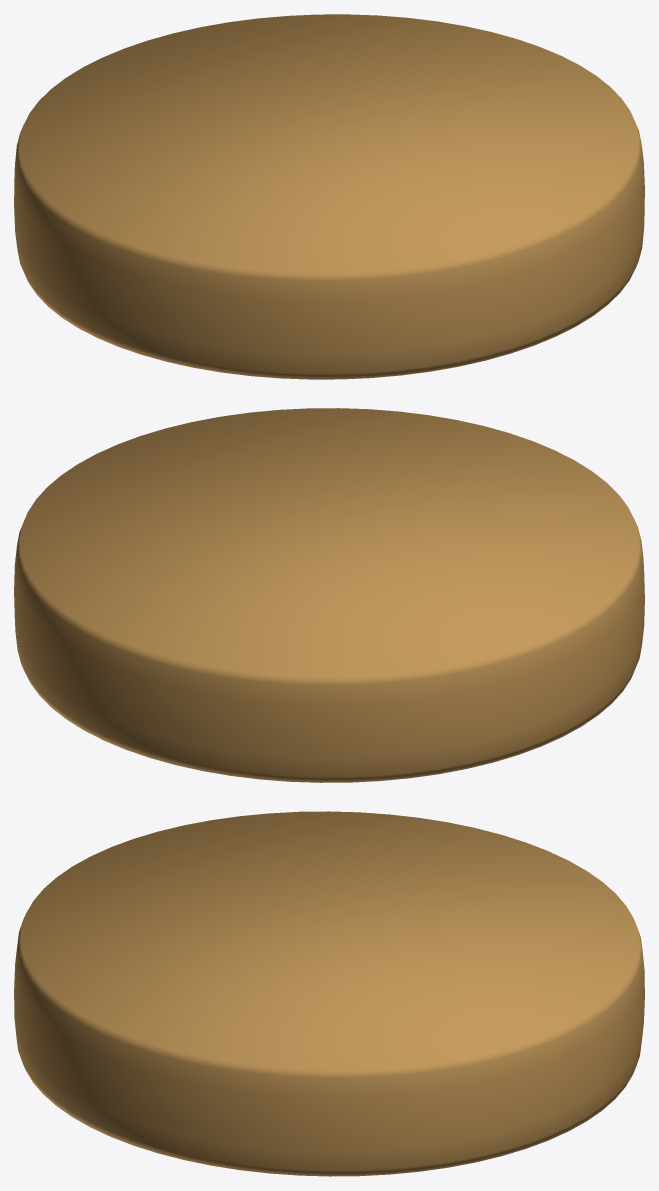
Rendered from C.Item.03.glb.
3 views of the same model, one above another, from view 1: azimuth 30°, elevation 25°; view 2: azimuth 150°, elevation 25°; view 3: azimuth 270°, elevation 25° (orthographic).
Parts seen in each view (by area): view 1: C.Item.03; view 2: C.Item.03; view 3: C.Item.03.
Part boxes in pixels (<box>): C.Item.03: <box>14,14,644,379</box>; C.Item.03: <box>14,408,644,782</box>; C.Item.03: <box>14,811,644,1176</box>.
Size of the model in its own units: 0.1137 by 0.0226 by 0.1137.
